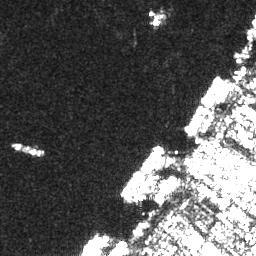ship: (200, 73, 222, 106), (117, 170, 142, 197), (138, 145, 163, 172), (184, 105, 204, 133), (10, 142, 44, 158)
